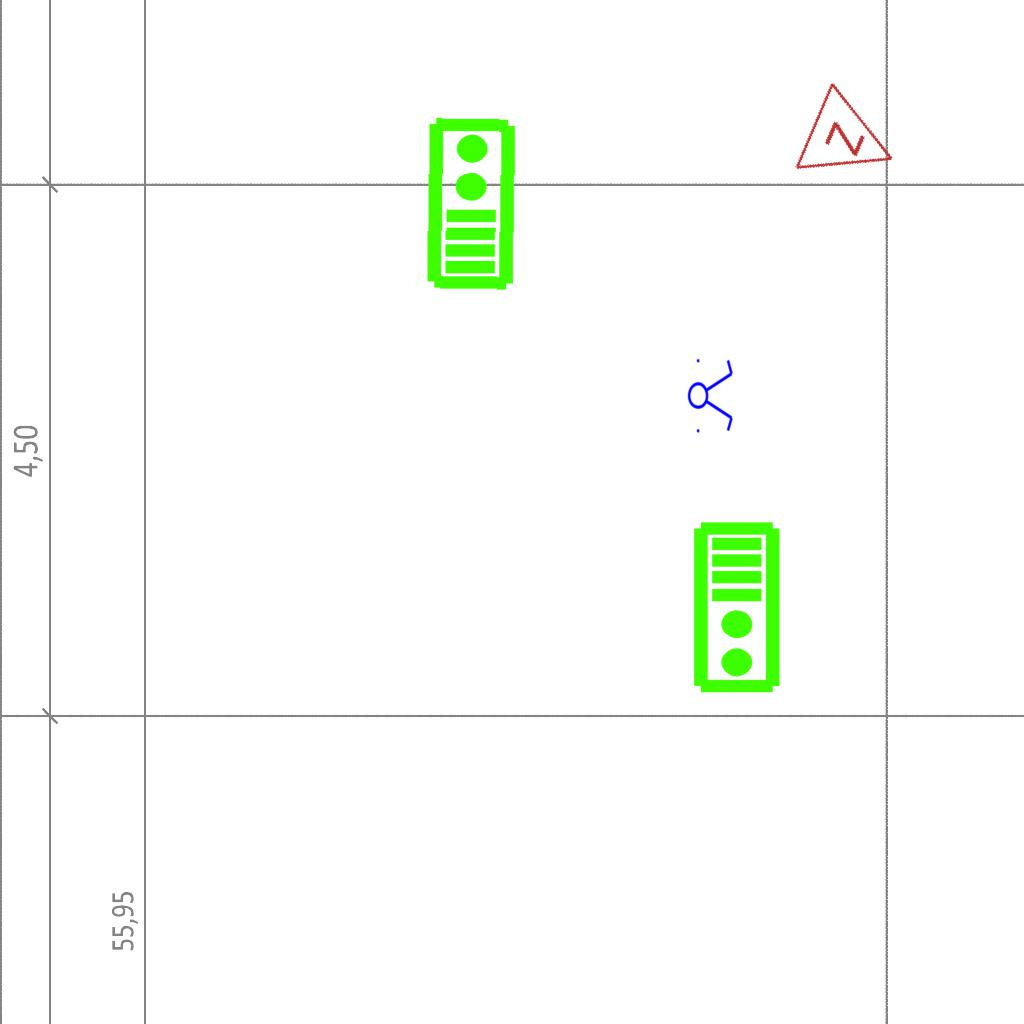Gegensprechanlage_mit_Video: (420, 114, 519, 292), (691, 520, 786, 696)
Serienschalter: (687, 353, 735, 437)
Zimmersignalleuchte: (787, 76, 919, 206)
